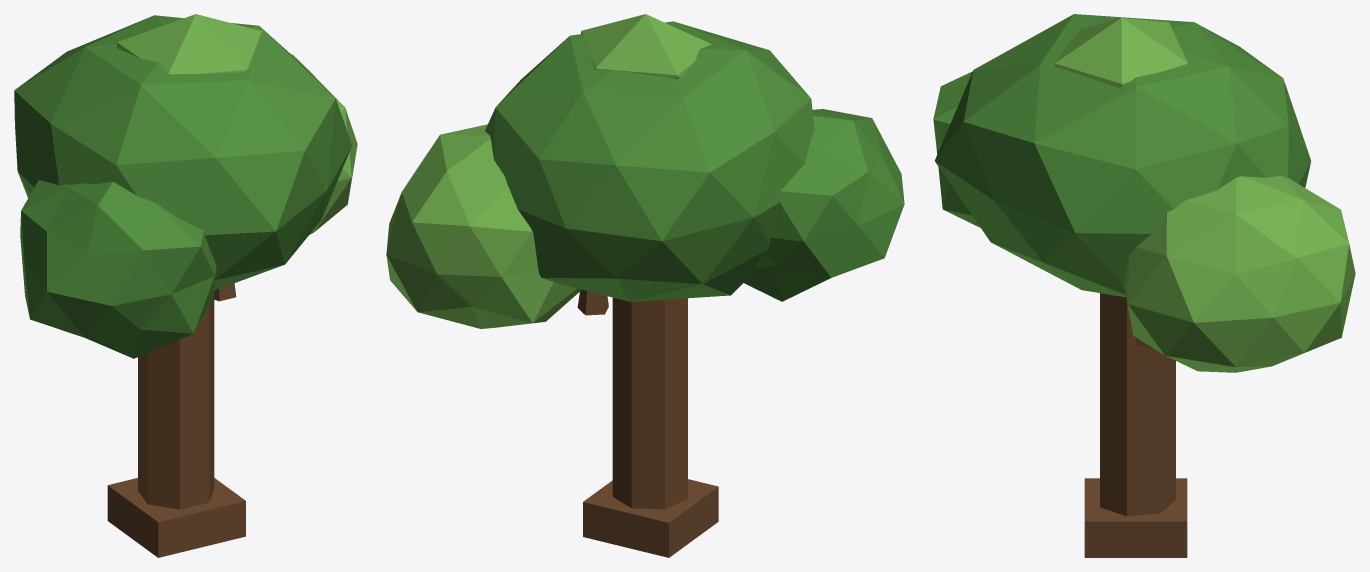
The model's file is tree.glb.
3 views of the same model, side by side, from view 1: azimuth 30°, elevation 25°; view 2: azimuth 150°, elevation 25°; view 3: azimuth 270°, elevation 25° (orthographic). The views are drawn at different scales.
Visible parts, largest first — view 1: tree_canopy_main, tree_canopy_l, tree_trunk, tree_root_flare, tree_canopy_top, tree_canopy_r; view 2: tree_canopy_main, tree_canopy_r, tree_canopy_l, tree_trunk, tree_root_flare, tree_canopy_top, tree_branch; view 3: tree_canopy_main, tree_canopy_r, tree_trunk, tree_canopy_top, tree_root_flare, tree_canopy_l.
Boxes of the visible parts, x1,y1,x2,y2 form: tree_canopy_main: [14, 15, 352, 290]; tree_canopy_l: [20, 180, 216, 358]; tree_trunk: [138, 291, 214, 509]; tree_root_flare: [107, 478, 245, 557]; tree_canopy_top: [117, 14, 262, 74]; tree_canopy_r: [291, 54, 357, 234]; tree_canopy_main: [485, 21, 814, 301]; tree_canopy_r: [386, 124, 581, 328]; tree_canopy_l: [742, 109, 904, 301]; tree_trunk: [612, 297, 687, 509]; tree_root_flare: [583, 479, 718, 557]; tree_canopy_top: [581, 14, 711, 79]; tree_branch: [577, 289, 608, 315]; tree_canopy_main: [935, 14, 1311, 297]; tree_canopy_r: [1124, 175, 1355, 372]; tree_trunk: [1100, 293, 1175, 516]; tree_canopy_top: [1054, 17, 1188, 87]; tree_root_flare: [1084, 478, 1187, 557]; tree_canopy_l: [933, 71, 980, 227].
Bounding box in the file's own units: 3.31 × 4.05 × 2.96.
